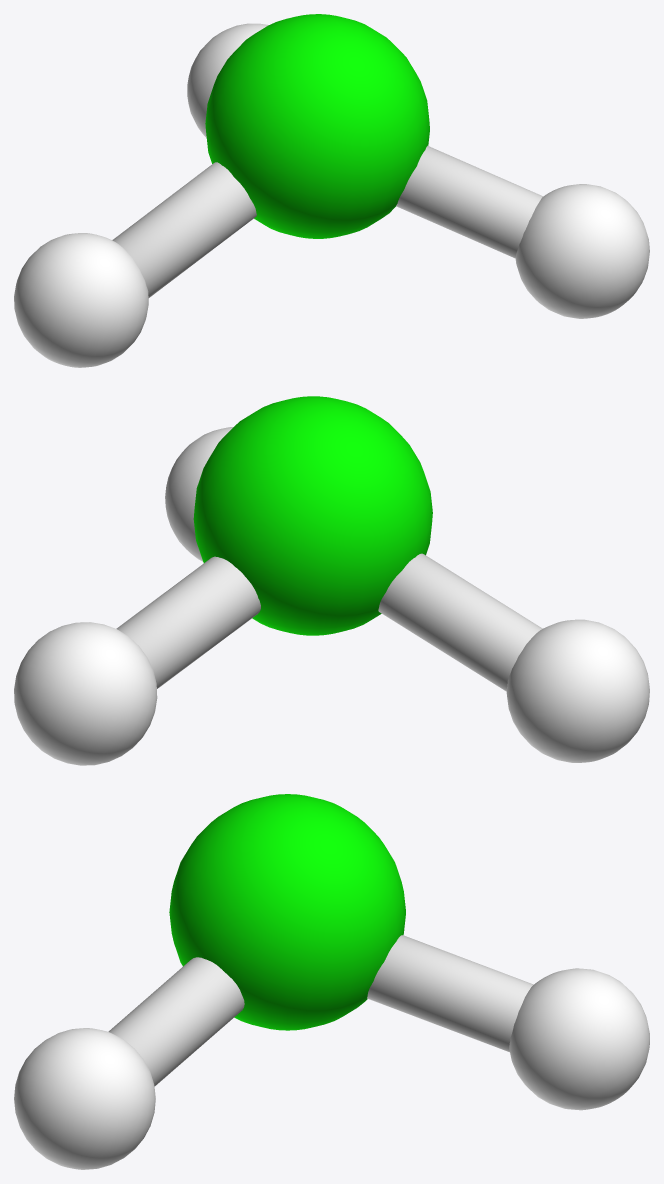
The picture shows the model from 3 angles, top to bottom: view 1: azimuth 30°, elevation 25°; view 2: azimuth 150°, elevation 25°; view 3: azimuth 270°, elevation 25°; orthographic projection. The views are drawn at different scales.
Visible parts, largest first — view 1: 구체, 구체.004, 구체.001, 실린더, 실린더.001, 구체.003; view 2: 구체, 구체.003, 구체.004, 실린더, 실린더.003, 구체.001; view 3: 구체, 구체.001, 구체.003, 실린더.003, 실린더.001.
Part boxes in pixels (x1,y1,x2,y2): 구체: (205, 14, 429, 238); 구체.004: (14, 233, 148, 367); 구체.001: (515, 184, 649, 318); 실린더: (112, 162, 256, 297); 실린더.001: (396, 145, 543, 258); 구체.003: (187, 23, 268, 137); 구체: (193, 396, 432, 635); 구체.003: (14, 622, 157, 765); 구체.004: (506, 619, 649, 762); 실린더: (378, 553, 542, 691); 실린더.003: (116, 556, 260, 688); 구체.001: (165, 427, 233, 561); 구체: (169, 794, 405, 1030); 구체.001: (14, 1028, 155, 1169); 구체.003: (509, 968, 649, 1110); 실린더.003: (367, 935, 533, 1052); 실린더.001: (108, 957, 244, 1086).
Size of the model in its own units: 676 by 335 by 672.
